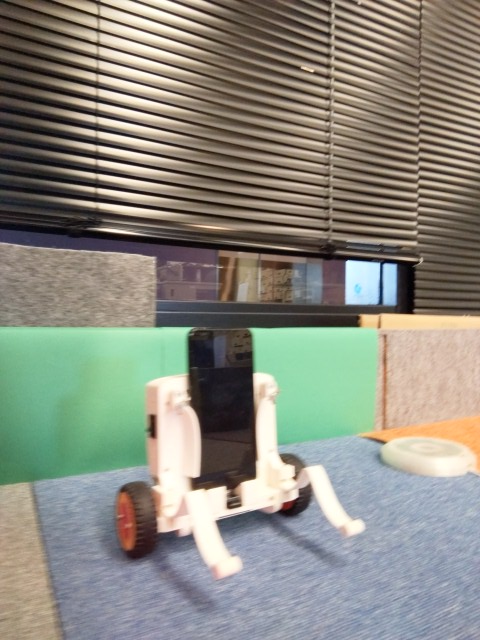f: (110, 316, 369, 591)
o: (374, 429, 477, 481)
